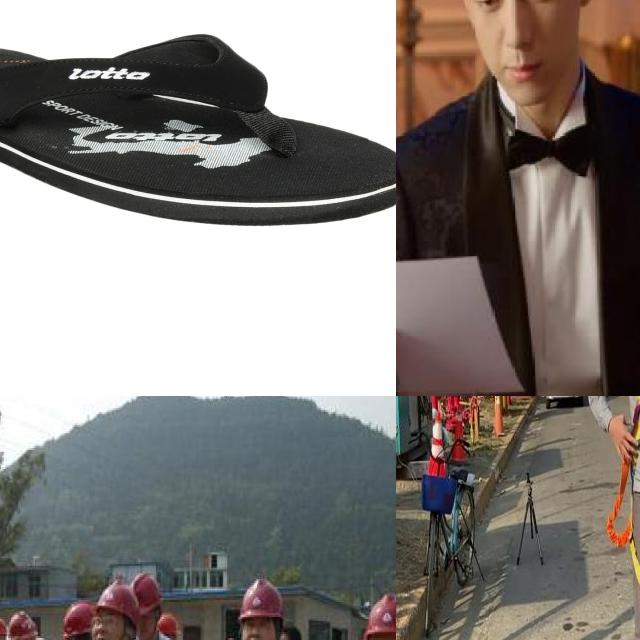Harness: (606, 460, 640, 588)
No_Glasses: (459, 0, 565, 20)
Sandals: (0, 31, 396, 227)
face_nomask: (458, 0, 583, 93), (88, 613, 122, 640), (241, 615, 273, 640)
glasses: (86, 611, 120, 629)
head_helmet: (93, 573, 144, 622), (236, 575, 286, 624), (358, 591, 396, 640), (60, 599, 99, 637), (6, 609, 44, 640)
person: (396, 0, 640, 396)
